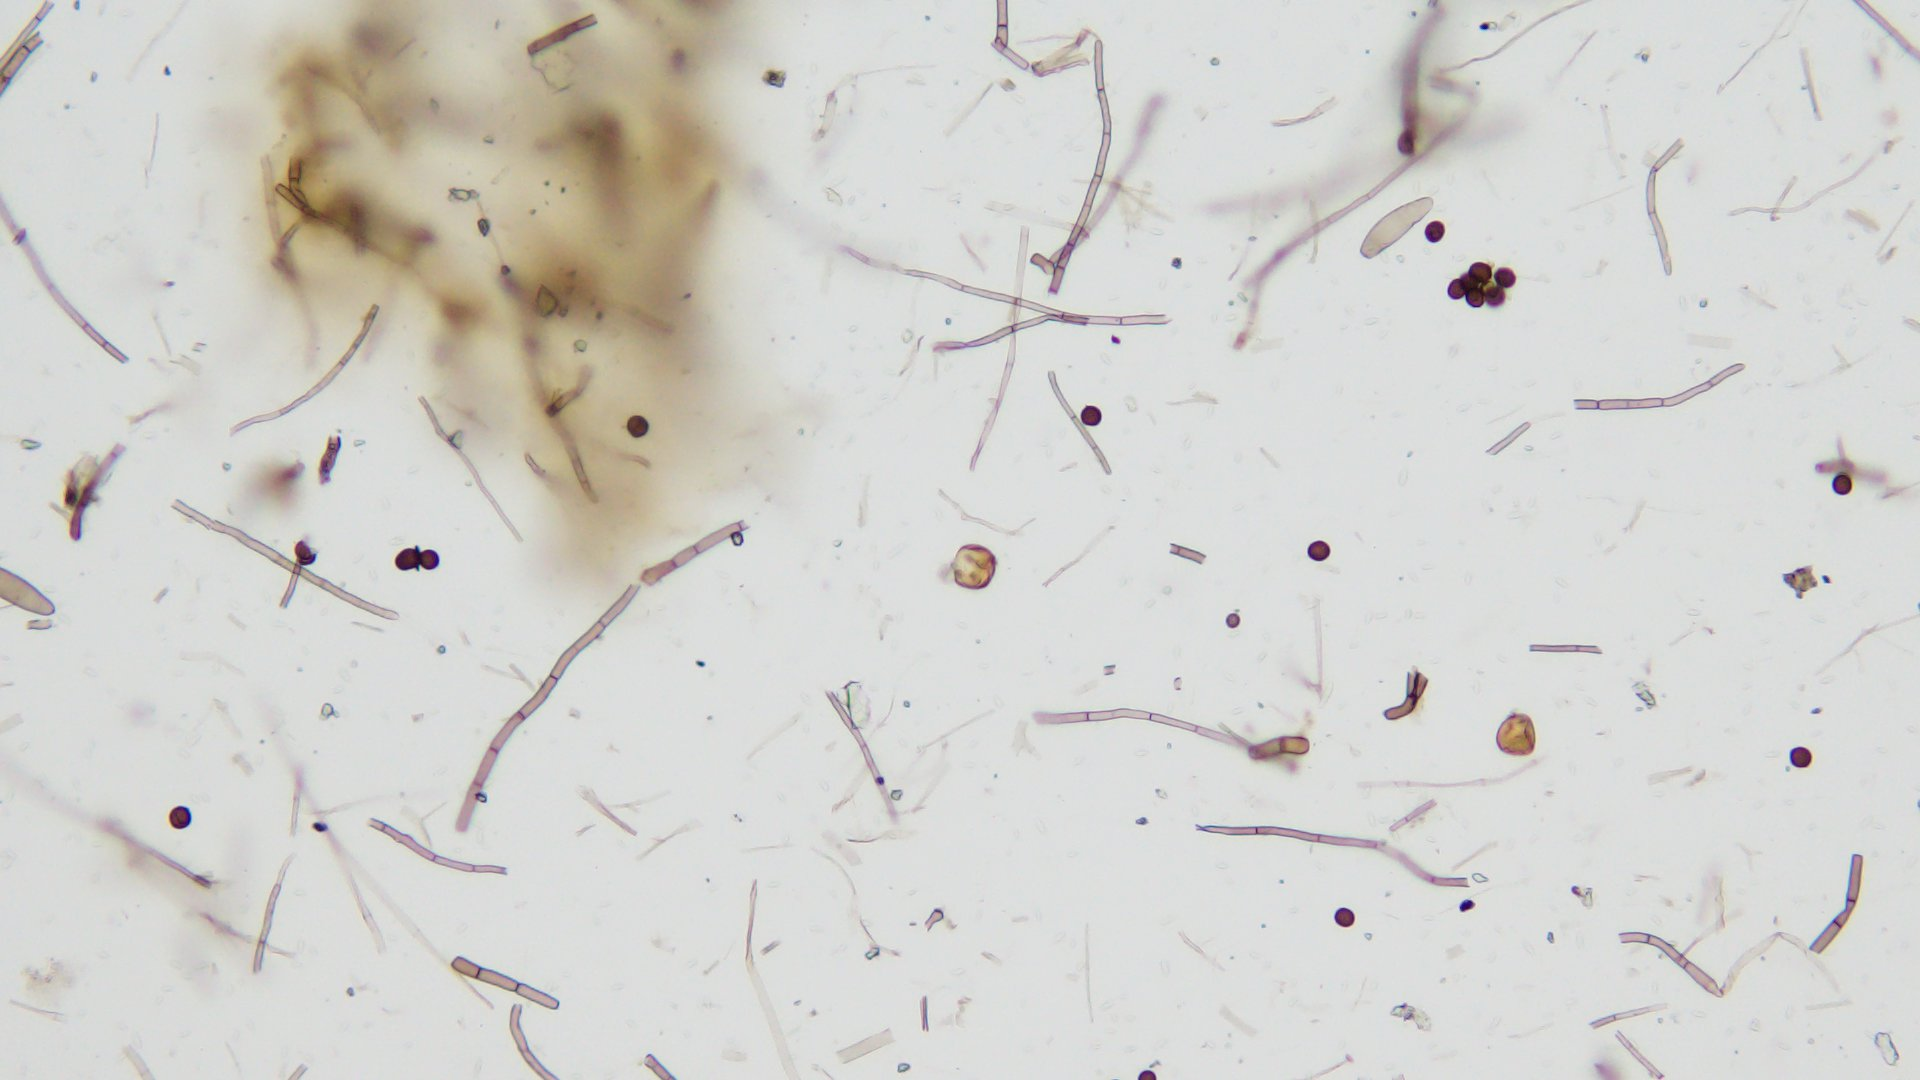dbb_spore: (1364, 193, 1432, 260)
shs_spore: (417, 546, 440, 571), (394, 550, 418, 574), (167, 806, 191, 829), (1307, 539, 1332, 560), (1789, 746, 1815, 767), (1466, 285, 1487, 309), (626, 415, 649, 436), (1495, 266, 1518, 287), (1484, 284, 1506, 305), (1832, 472, 1853, 495), (1425, 219, 1445, 243), (1447, 277, 1466, 301), (1080, 404, 1098, 427), (1468, 262, 1491, 281), (1335, 909, 1357, 927)
xb_spore: (953, 545, 998, 589), (1495, 716, 1539, 756)
